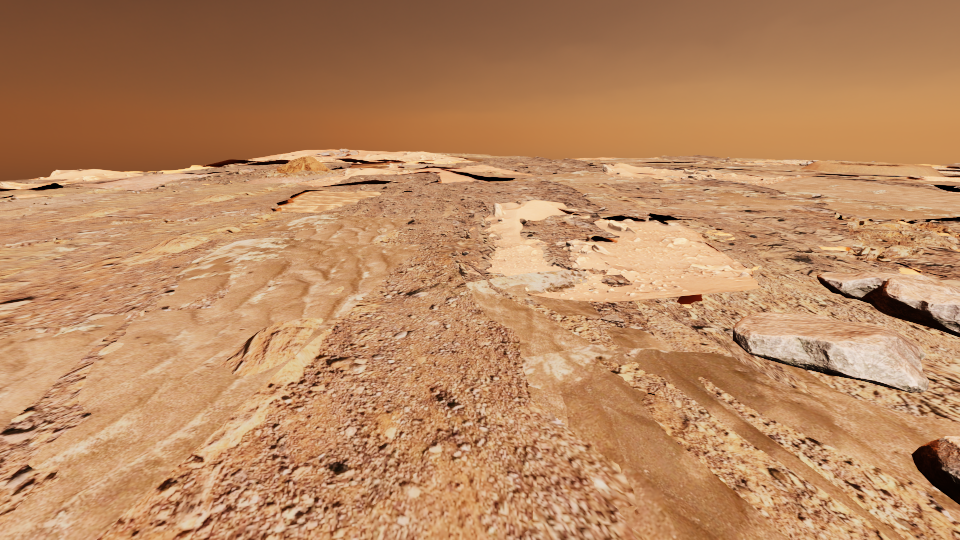bedrock: (517, 302, 959, 539), (360, 189, 959, 302), (90, 273, 273, 539), (479, 250, 712, 307), (18, 174, 271, 221), (771, 302, 959, 346), (161, 231, 285, 274), (858, 217, 959, 240), (471, 176, 569, 191), (869, 211, 959, 224), (305, 177, 397, 188), (336, 170, 416, 179), (409, 217, 474, 227), (117, 180, 184, 187), (316, 189, 365, 196), (804, 217, 825, 224)
rocks: (255, 162, 321, 182)
sand: (0, 194, 476, 271), (0, 404, 128, 539), (386, 170, 661, 213), (208, 511, 393, 539), (729, 198, 871, 230), (0, 321, 53, 369), (589, 183, 730, 198), (73, 199, 205, 213), (33, 185, 160, 194), (796, 232, 850, 249), (0, 310, 31, 329), (285, 263, 327, 277), (651, 199, 701, 206)
soil: (0, 216, 959, 539), (238, 166, 502, 210), (433, 174, 692, 201), (759, 222, 959, 254), (520, 205, 750, 227), (0, 187, 93, 217), (549, 225, 674, 247), (147, 171, 259, 195), (100, 472, 135, 539), (868, 214, 959, 237), (422, 216, 479, 223), (744, 205, 783, 212), (459, 204, 502, 210), (938, 280, 959, 290), (23, 236, 53, 242), (468, 182, 506, 186), (703, 192, 722, 194), (761, 189, 773, 192)
